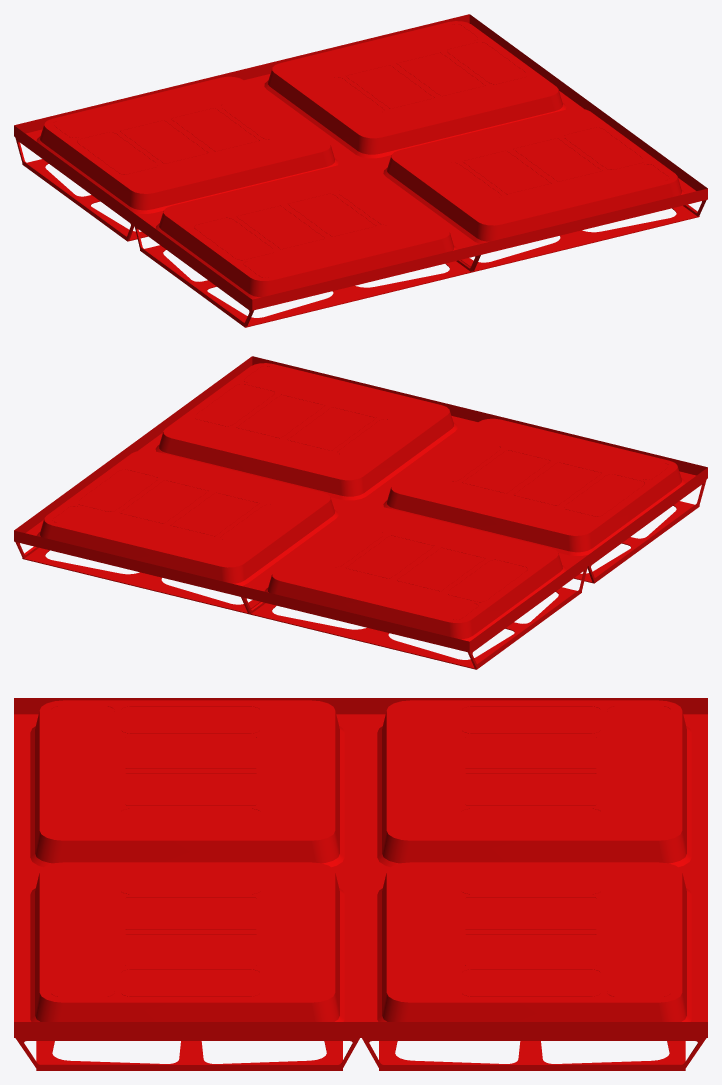
Rendered from Ceiling_5.fbx.
3 renders of one model, top to bottom at view 1: azimuth 30°, elevation 25°; view 2: azimuth 150°, elevation 25°; view 3: azimuth 270°, elevation 25°, orthographic. The views are drawn at different scales.
Parts seen in each view (by area): view 1: polySurface4; view 2: polySurface4; view 3: polySurface4.
Part boxes in pixels (x1=…): polySurface4: x1=14, y1=14, x2=707, y2=327; polySurface4: x1=14, y1=356, x2=707, y2=669; polySurface4: x1=14, y1=698, x2=707, y2=1070.
Size of the model in its own units: 566 by 47.3 by 512.
